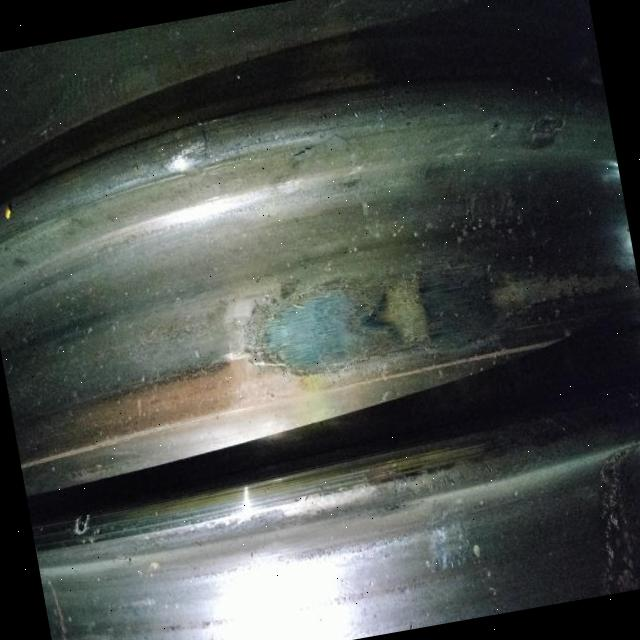flat: (210, 229, 530, 390)
